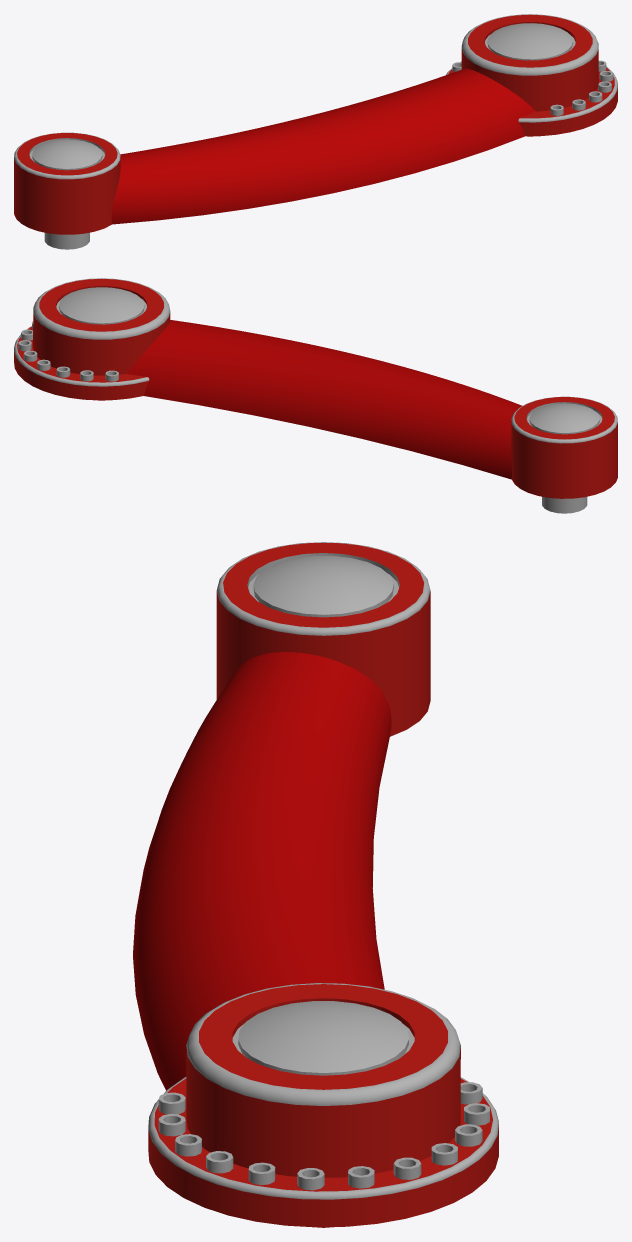
3 renders of one model, top to bottom at view 1: azimuth 30°, elevation 25°; view 2: azimuth 150°, elevation 25°; view 3: azimuth 270°, elevation 25°, orthographic. The views are drawn at different scales.
Parts seen in each view (by area): view 1: Solid1; view 2: Solid1; view 3: Solid1.
Boxes of the visible parts, <box> form: Solid1: <box>14,14,617,249</box>; Solid1: <box>14,278,617,513</box>; Solid1: <box>133,542,498,1227</box>.
Size of the model in its own units: 0.4424 by 0.067 by 0.1199.
